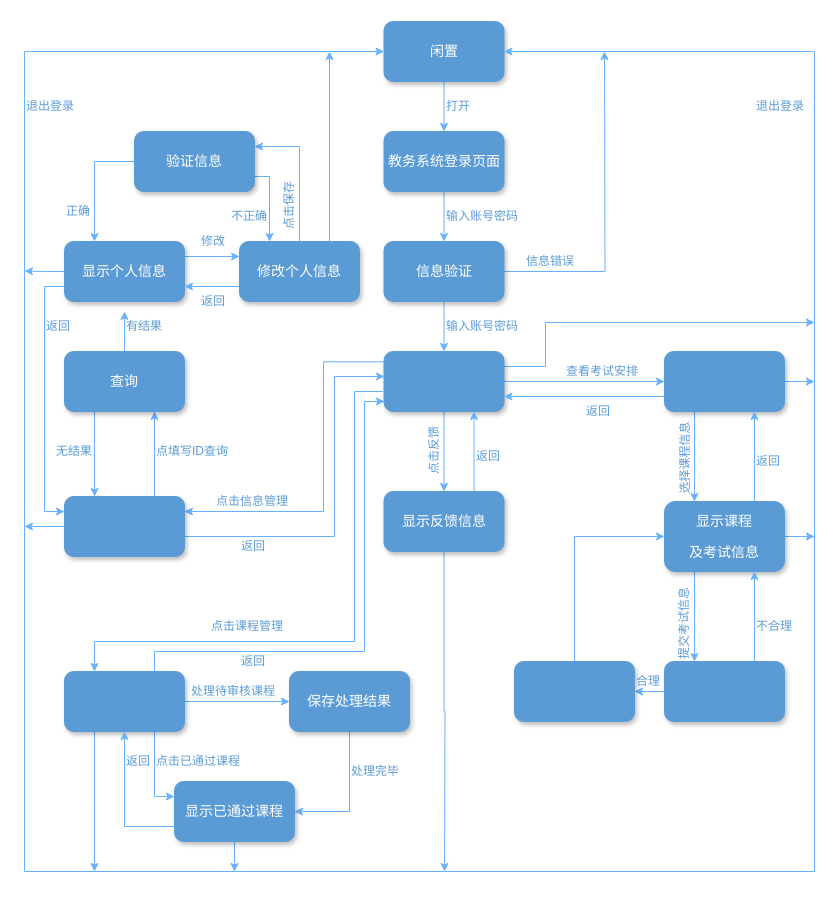
Image size: 840x897. Some labels were removed from this diagram. Each missing label, with the centre of its shape:
保存信息: the point at 575,692
教务系统: the point at 444,382
显示信息查询: the point at 125,528
显示开设课程信息: the point at 725,382
显示待审核课程: the point at 125,702
验证合理性: the point at 725,692
